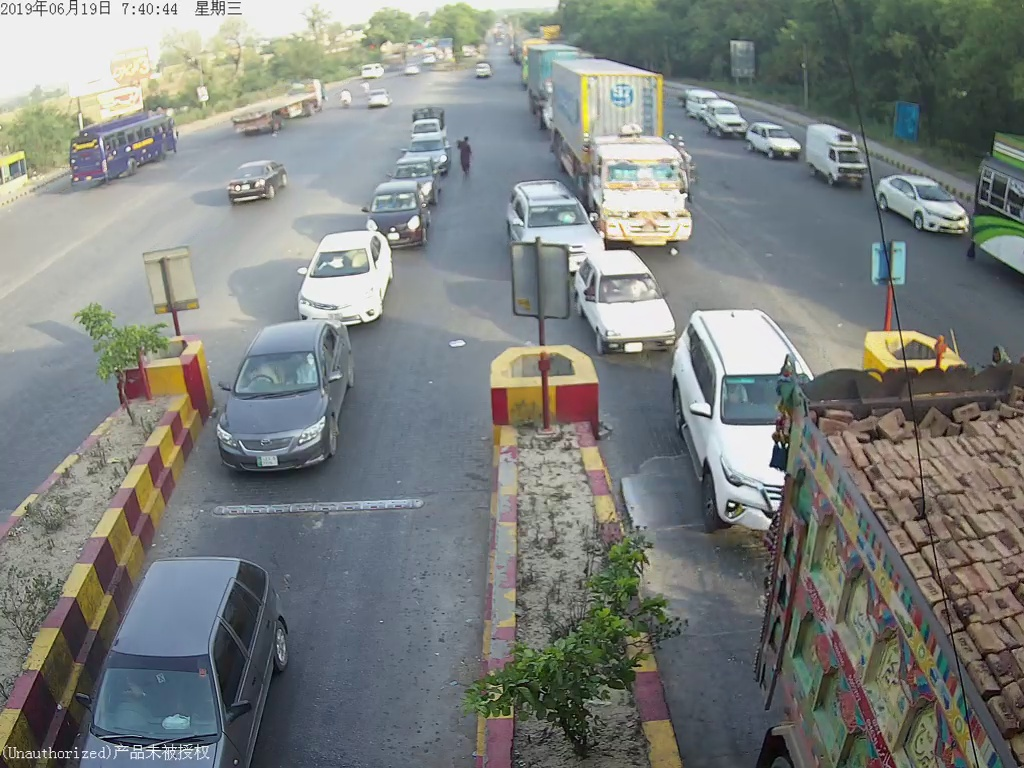Cat-1: (224, 322, 368, 481), (675, 308, 775, 529), (302, 229, 397, 318), (584, 259, 673, 352), (512, 186, 600, 259), (373, 178, 428, 240)
Cat-5: (556, 59, 699, 244)
